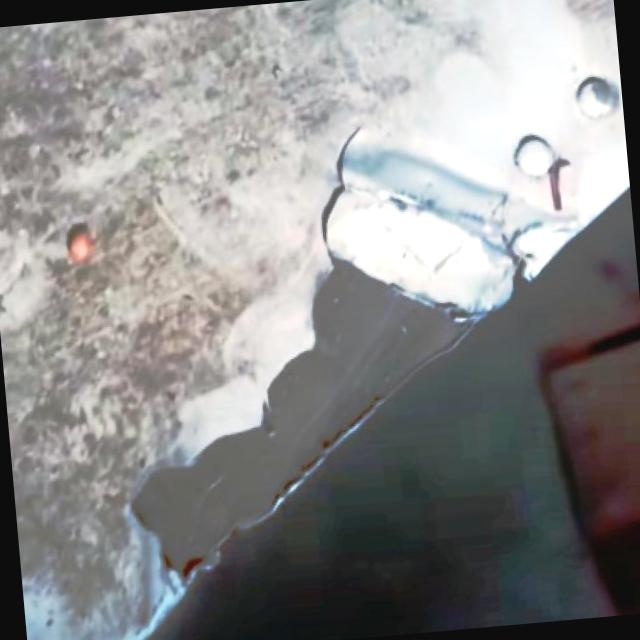crack: (240, 143, 371, 304)
